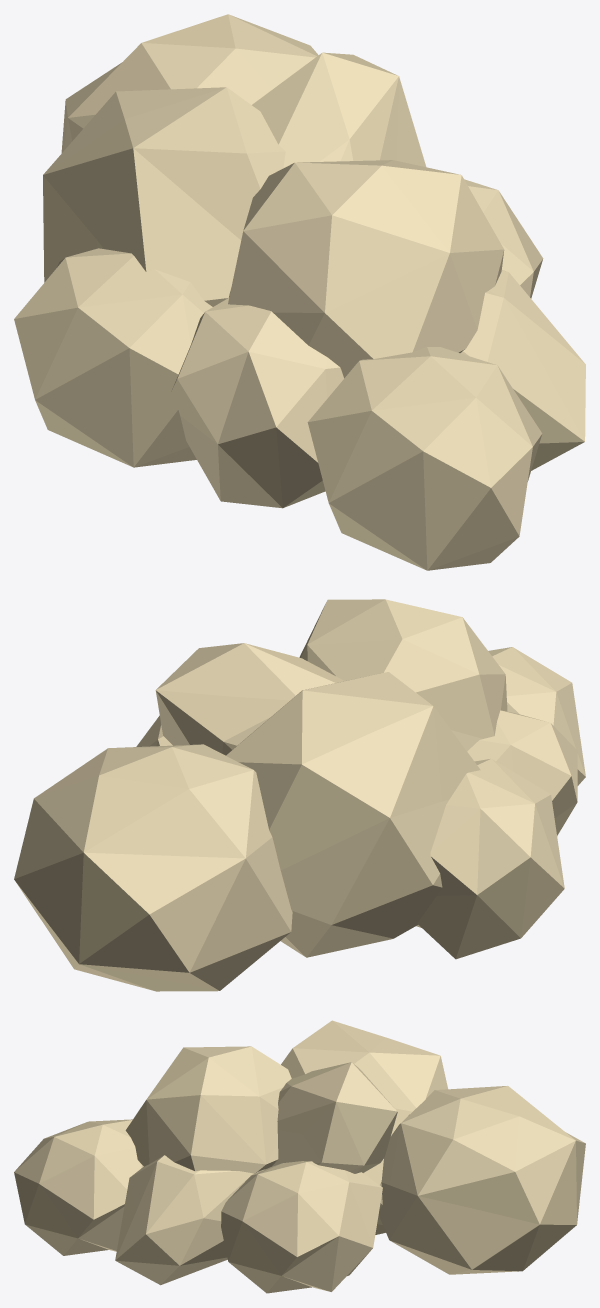
File: cloud_1.FBX
3 renders of one model, top to bottom at view 1: azimuth 30°, elevation 25°; view 2: azimuth 150°, elevation 25°; view 3: azimuth 270°, elevation 25°, orthographic. The views are drawn at different scales.
Parts seen in each view (by area): view 1: cloud_1; view 2: cloud_1; view 3: cloud_1.
Part boxes in pixels (bbox=[...]): cloud_1: bbox=[14, 14, 585, 570]; cloud_1: bbox=[14, 599, 585, 991]; cloud_1: bbox=[14, 1020, 585, 1293].
Size of the model in its own units: 15.95 by 9.99 by 24.33.
